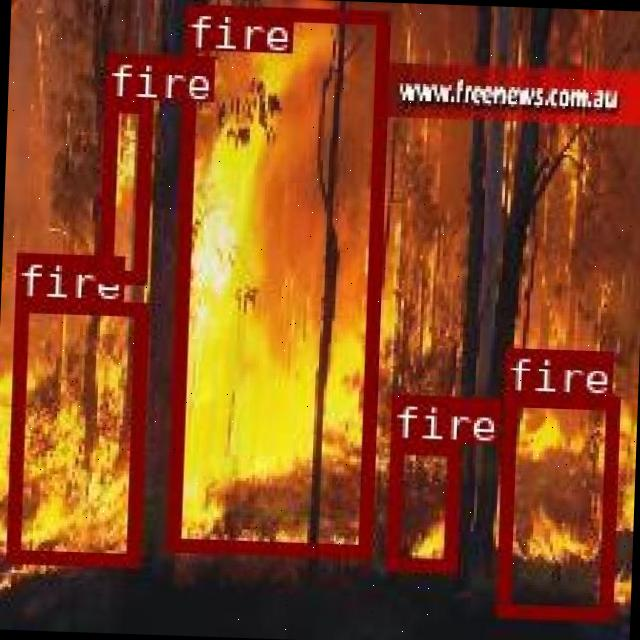fire: (165, 3, 387, 555), (3, 297, 146, 564), (494, 392, 616, 618), (96, 98, 150, 282), (384, 440, 456, 568)
